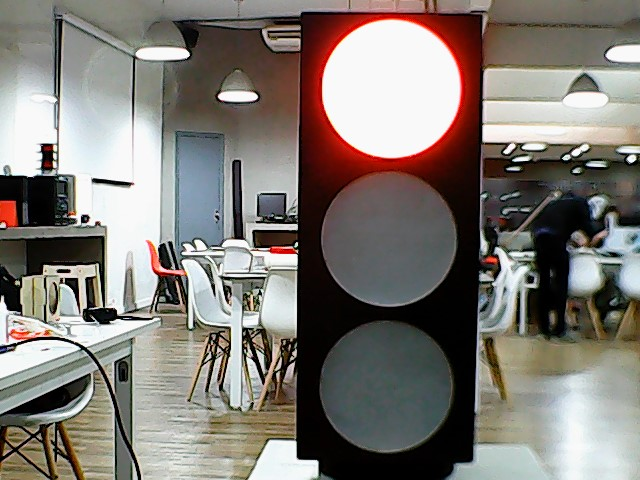vermelho: (296, 7, 486, 480)
